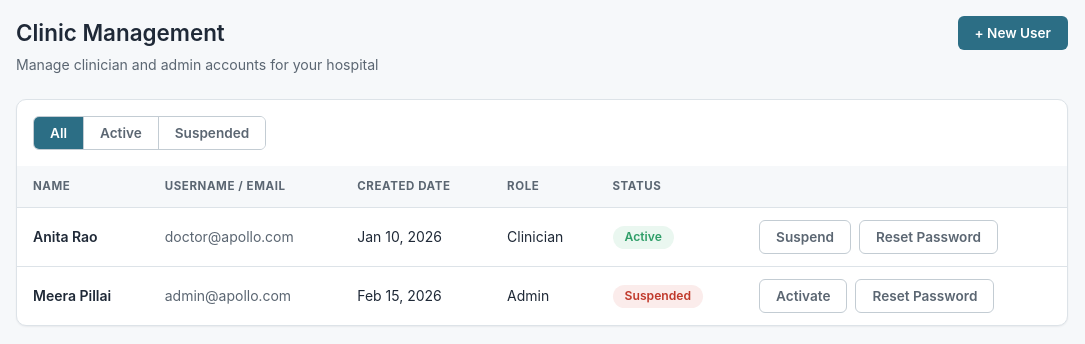
Scenario: ClinicManagementComponent › filters the list to only active or only suspended users
Click the button with class "toggle-option" showing "Active": (121, 133) [84, 117, 159, 149]
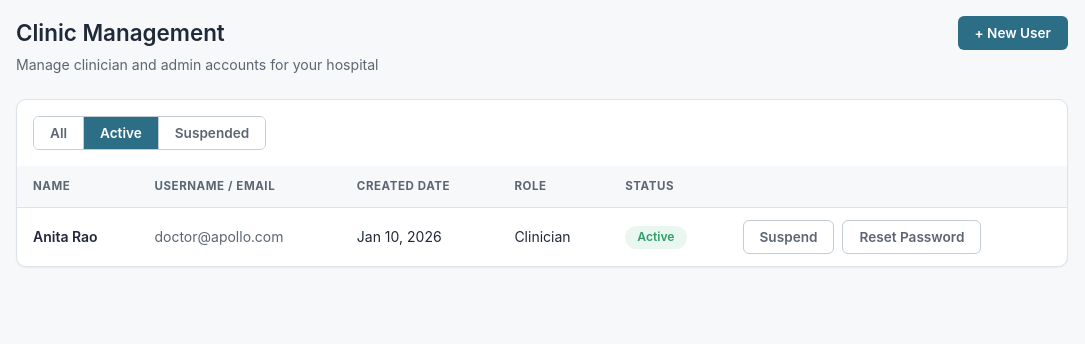
Expected: the text "Anita Rao" is shown, [17, 208, 138, 266]
Expected: the text "Meera Pillai" is gone
